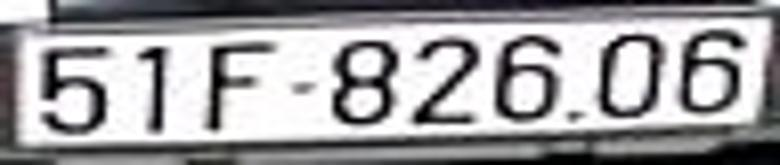-: (286, 77, 317, 96)
.: (564, 106, 587, 125)
0: (596, 33, 668, 118)
1: (136, 42, 171, 136)
2: (409, 35, 479, 128)
5: (35, 45, 116, 137)
6: (678, 25, 752, 117), (491, 32, 562, 122)
8: (331, 37, 398, 128)
F: (204, 41, 277, 129)
